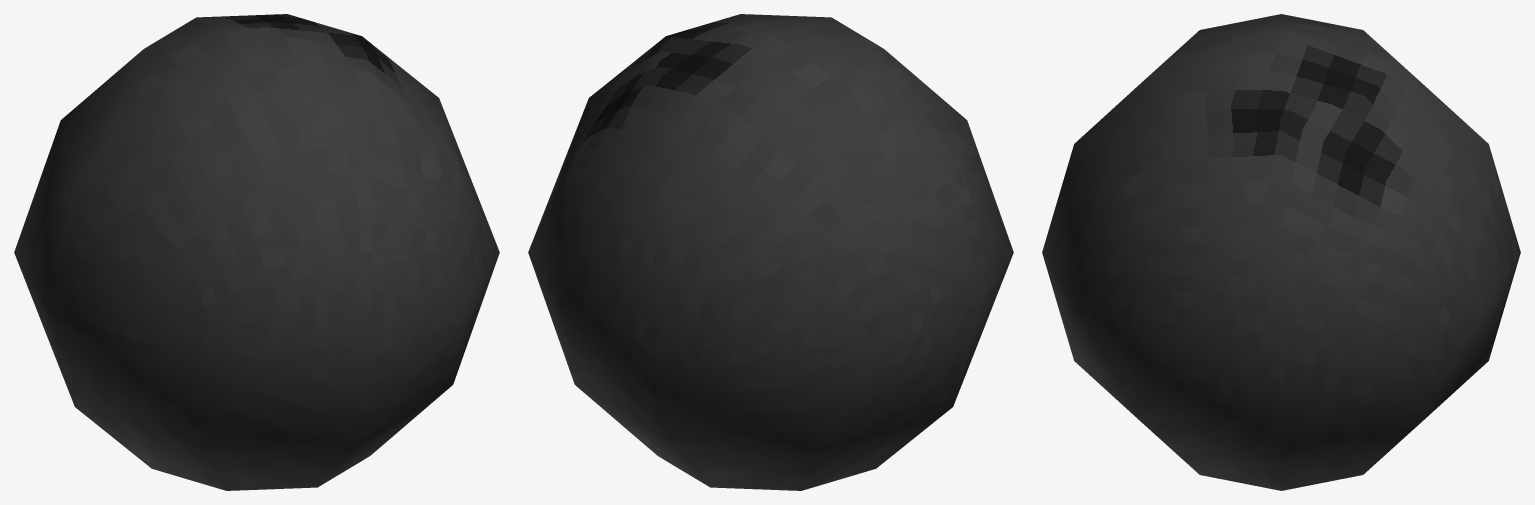
File: Bowlingball.fbx
The picture shows the model from 3 angles, left to right: view 1: azimuth 30°, elevation 25°; view 2: azimuth 150°, elevation 25°; view 3: azimuth 270°, elevation 25°; orthographic projection.
Visible parts, largest first — view 1: BasketBall001; view 2: BasketBall001; view 3: BasketBall001.
Part boxes in pixels (box(x1,y1,x2,y2)): BasketBall001: box(14, 14, 499, 490); BasketBall001: box(528, 14, 1013, 490); BasketBall001: box(1042, 14, 1520, 490).
Bounding box in the file's own units: 40.05 × 40.05 × 40.05.
